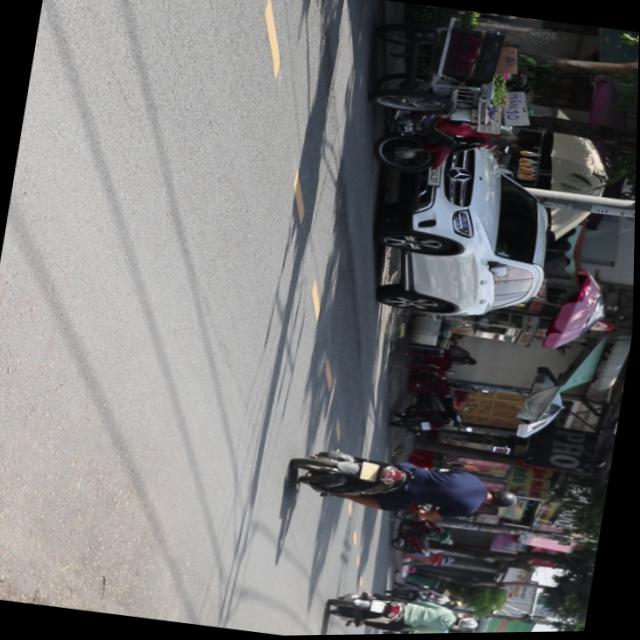helmet: (485, 486, 522, 512)
licenseplate: (288, 441, 528, 534)
nohelmet: (361, 462, 382, 483)
